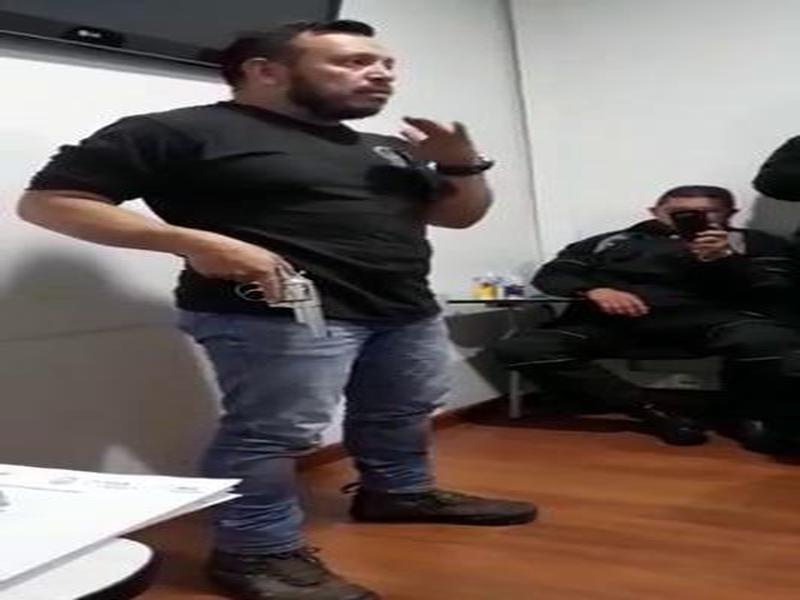Revolver: (227, 248, 356, 376)
